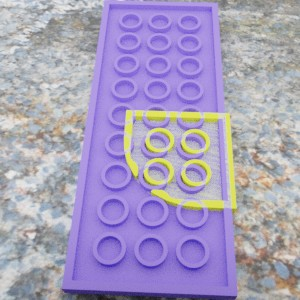lego: (61, 0, 237, 299), (124, 110, 236, 214)
